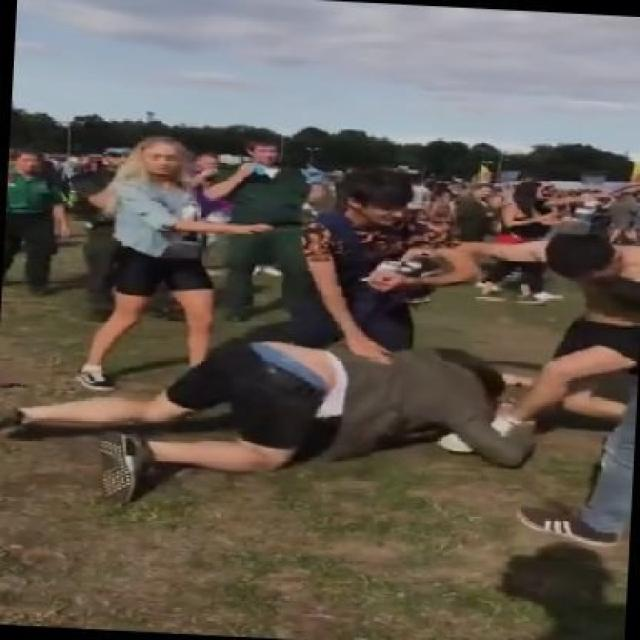fight: (10, 210, 635, 497)
non-fight: (65, 132, 271, 400), (291, 151, 435, 346), (1, 149, 70, 297)
